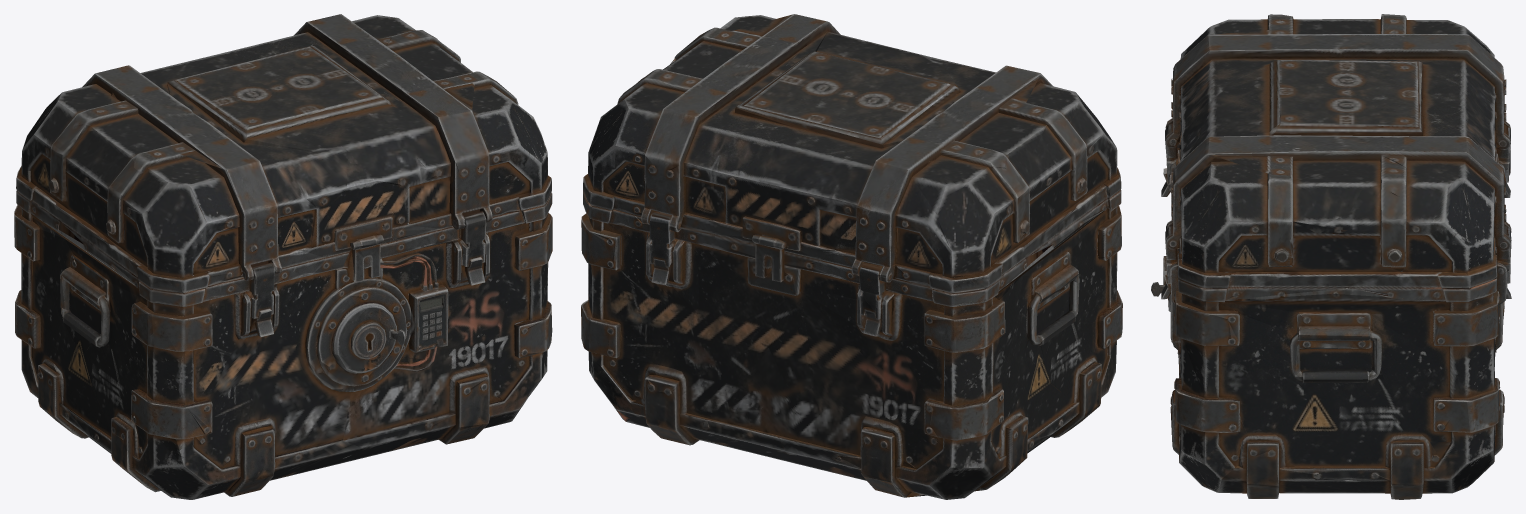
File: truhe-meshy.glb
3 renders of one model, left to right at view 1: azimuth 30°, elevation 25°; view 2: azimuth 150°, elevation 25°; view 3: azimuth 270°, elevation 25°, orthographic.
Parts seen in each view (by area): view 1: output_unwrapped; view 2: output_unwrapped; view 3: output_unwrapped.
Boxes of the visible parts, x1,y1,x2,y2 form: output_unwrapped: (14,14,552,499); output_unwrapped: (581,14,1122,499); output_unwrapped: (1151,14,1511,499).
Size of the model in its own units: 1.9 by 1.45 by 1.46.
1 material, 1 textured.
